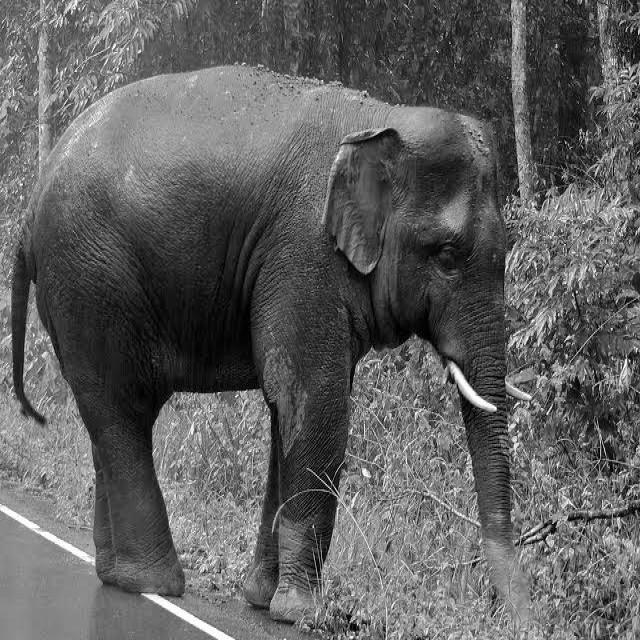Elephant: (9, 60, 538, 632)
